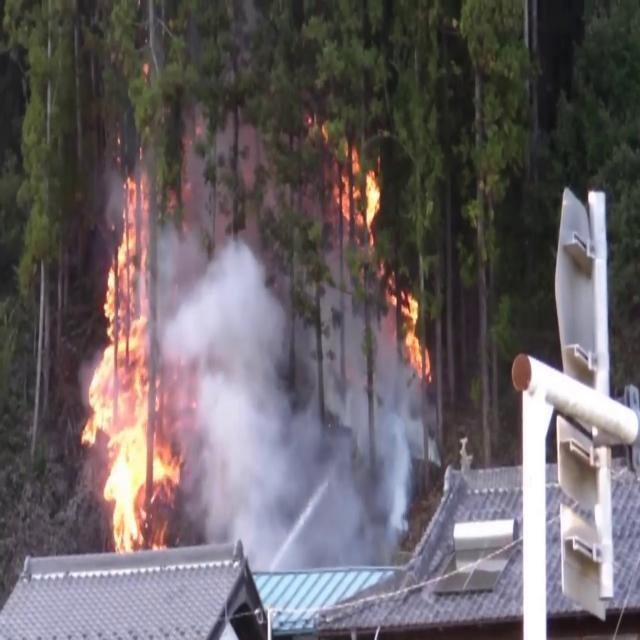Fire: (77, 172, 180, 552), (340, 142, 390, 260), (395, 272, 431, 384)
Smoke: (152, 208, 436, 568)
